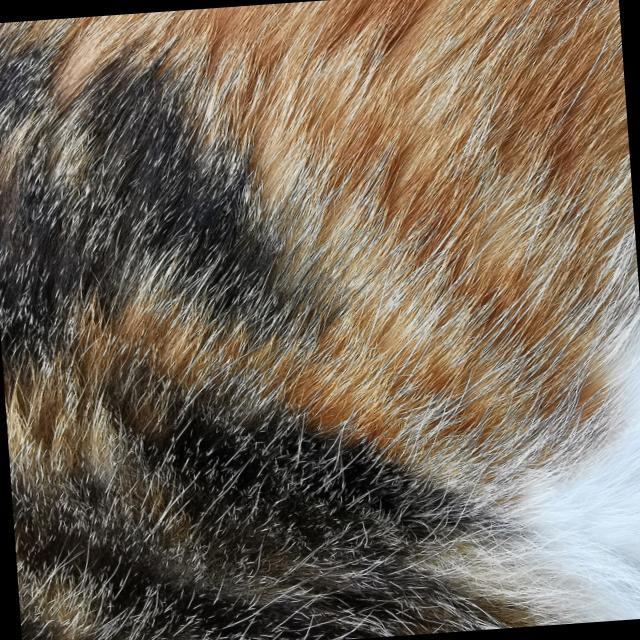Healthy skin: (16, 65, 350, 342), (388, 48, 601, 454), (57, 360, 384, 613)
